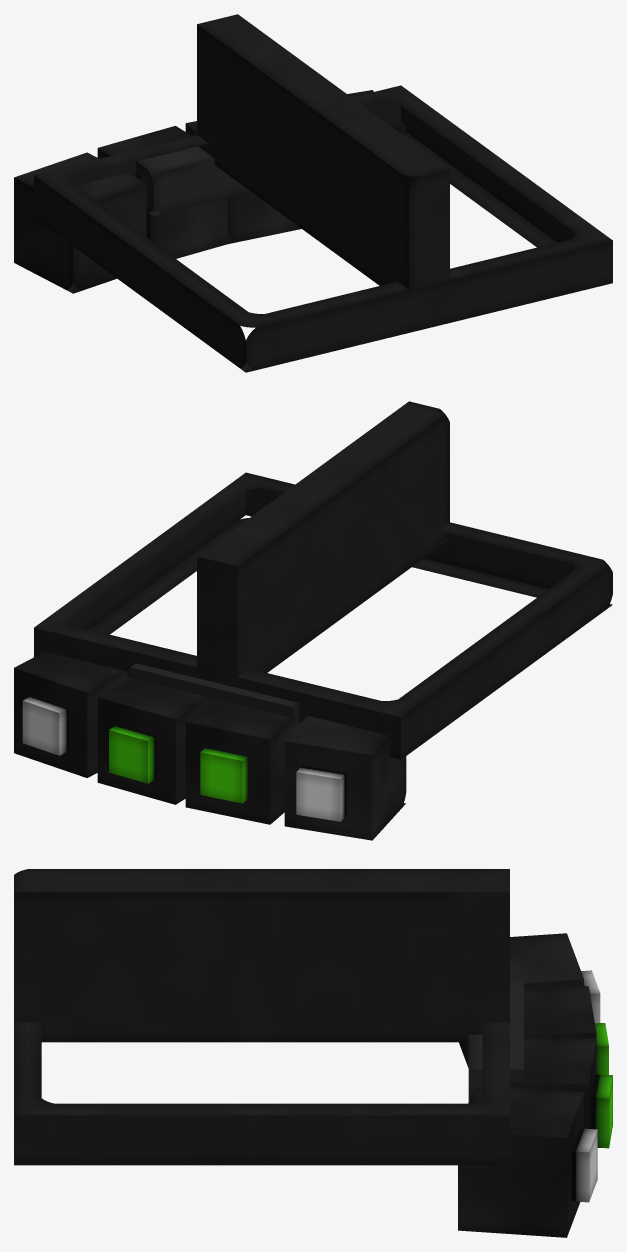
File: nv_goggles.obj
3 renders of one model, top to bottom at view 1: azimuth 30°, elevation 25°; view 2: azimuth 150°, elevation 25°; view 3: azimuth 270°, elevation 25°, orthographic. The views are drawn at different scales.
Parts seen in each view (by area): view 1: headModel0, headModel6, headModel4, headModel3, headModel1, headModel2; view 2: headModel0, headModel6, headModel4, headModel3, headModel2, headModel5, headModel1, headModel8, headModel10, headModel9, headModel7; view 3: headModel6, headModel0, headModel5, headModel2, headModel4, headModel3, headModel1, headModel7, headModel10, headModel9, headModel8.
Boxes of the visible parts, x1,y1,x2,y2 form: headModel0: [34, 85, 612, 372]; headModel6: [197, 14, 449, 303]; headModel4: [14, 152, 146, 293]; headModel3: [97, 126, 228, 258]; headModel1: [136, 146, 251, 216]; headModel2: [185, 121, 301, 243]; headModel0: [34, 472, 612, 759]; headModel6: [197, 401, 449, 682]; headModel4: [284, 715, 406, 840]; headModel3: [185, 698, 299, 824]; headModel2: [97, 677, 210, 804]; headModel5: [14, 651, 127, 777]; headModel1: [130, 663, 298, 717]; headModel8: [296, 765, 346, 821]; headModel10: [109, 724, 156, 783]; headModel9: [200, 747, 248, 803]; headModel7: [22, 695, 68, 755]; headModel6: [14, 869, 509, 1042]; headModel0: [14, 1022, 509, 1165]; headModel5: [458, 1087, 583, 1237]; headModel2: [510, 1036, 596, 1128]; headModel4: [459, 933, 583, 1067]; headModel3: [524, 986, 596, 1038]; headModel1: [468, 976, 523, 1101]; headModel7: [571, 1128, 597, 1202]; headModel10: [590, 1074, 612, 1148]; headModel9: [595, 1023, 608, 1074]; headModel8: [581, 970, 600, 1023].
Size of the model in its own units: 9 by 5.1 by 10.87.
